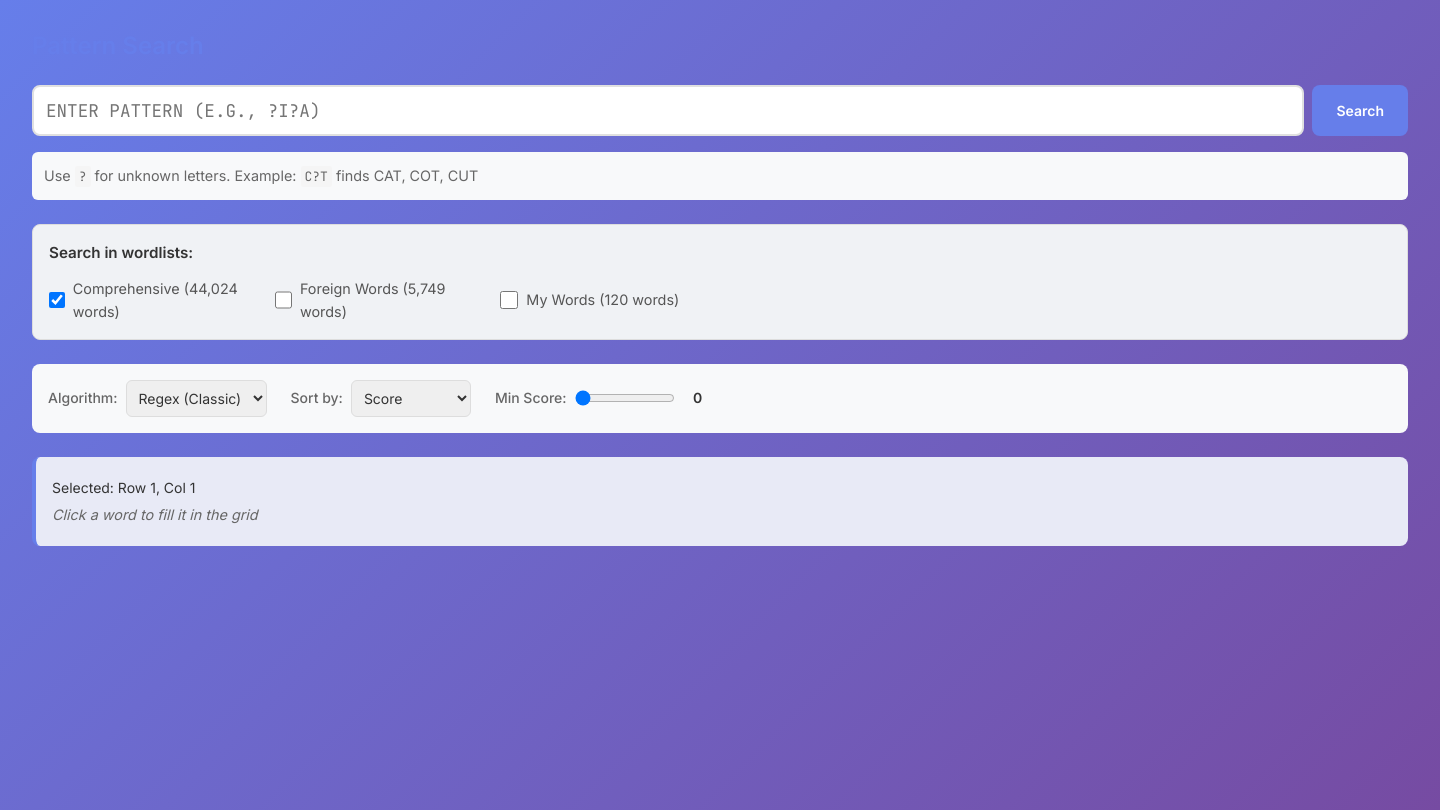
Test: PatternMatcher Component › Search Functionality › handles search errors gracefully
Type "C?T" into the field with placeholder "Enter pattern (e.g., ?I?A)" at (668, 110), box [32,85,1304,136]
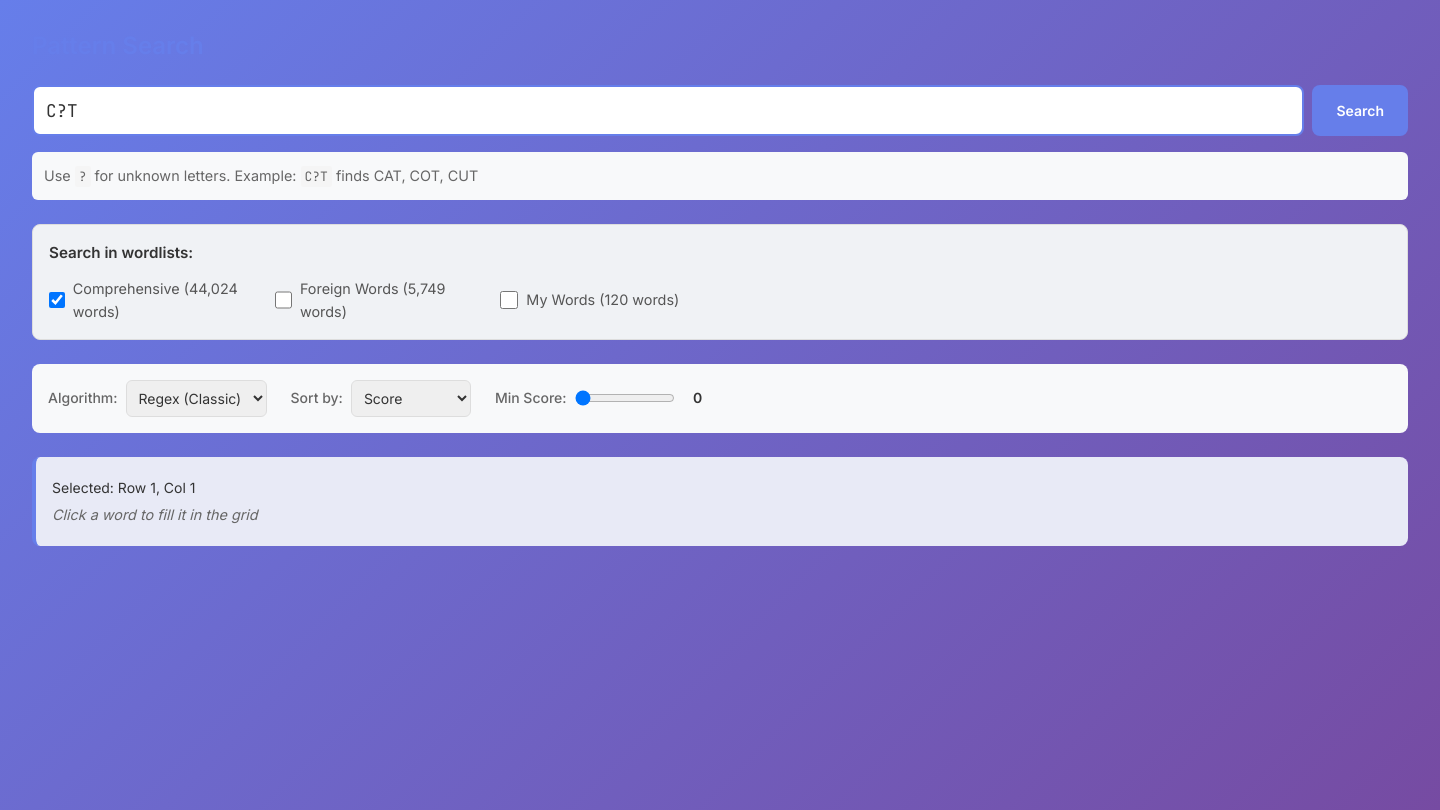
Click the button "Search" at (1360, 110), box [1312,85,1408,136]
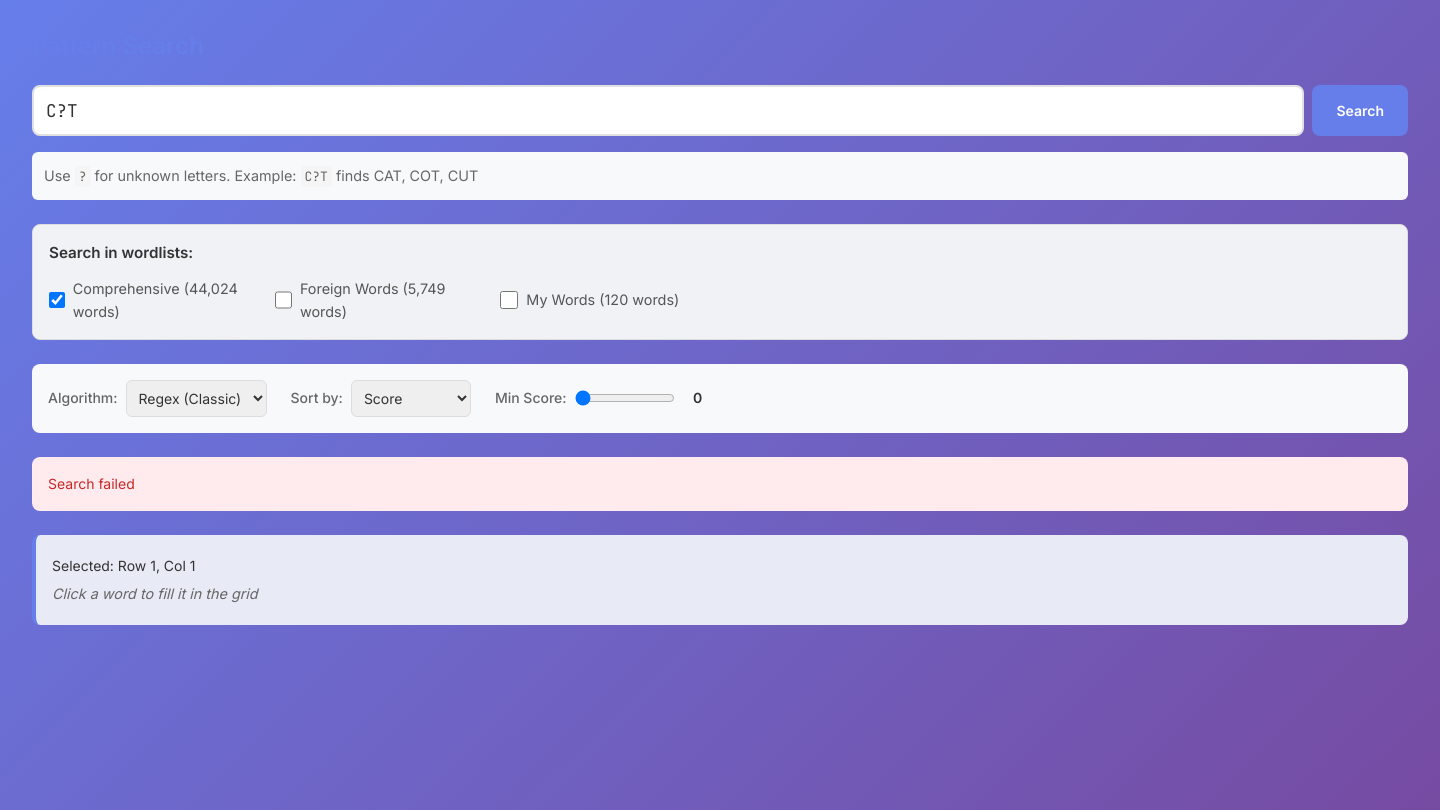
Now the text "Search failed" is shown, box [32,457,1408,511]
